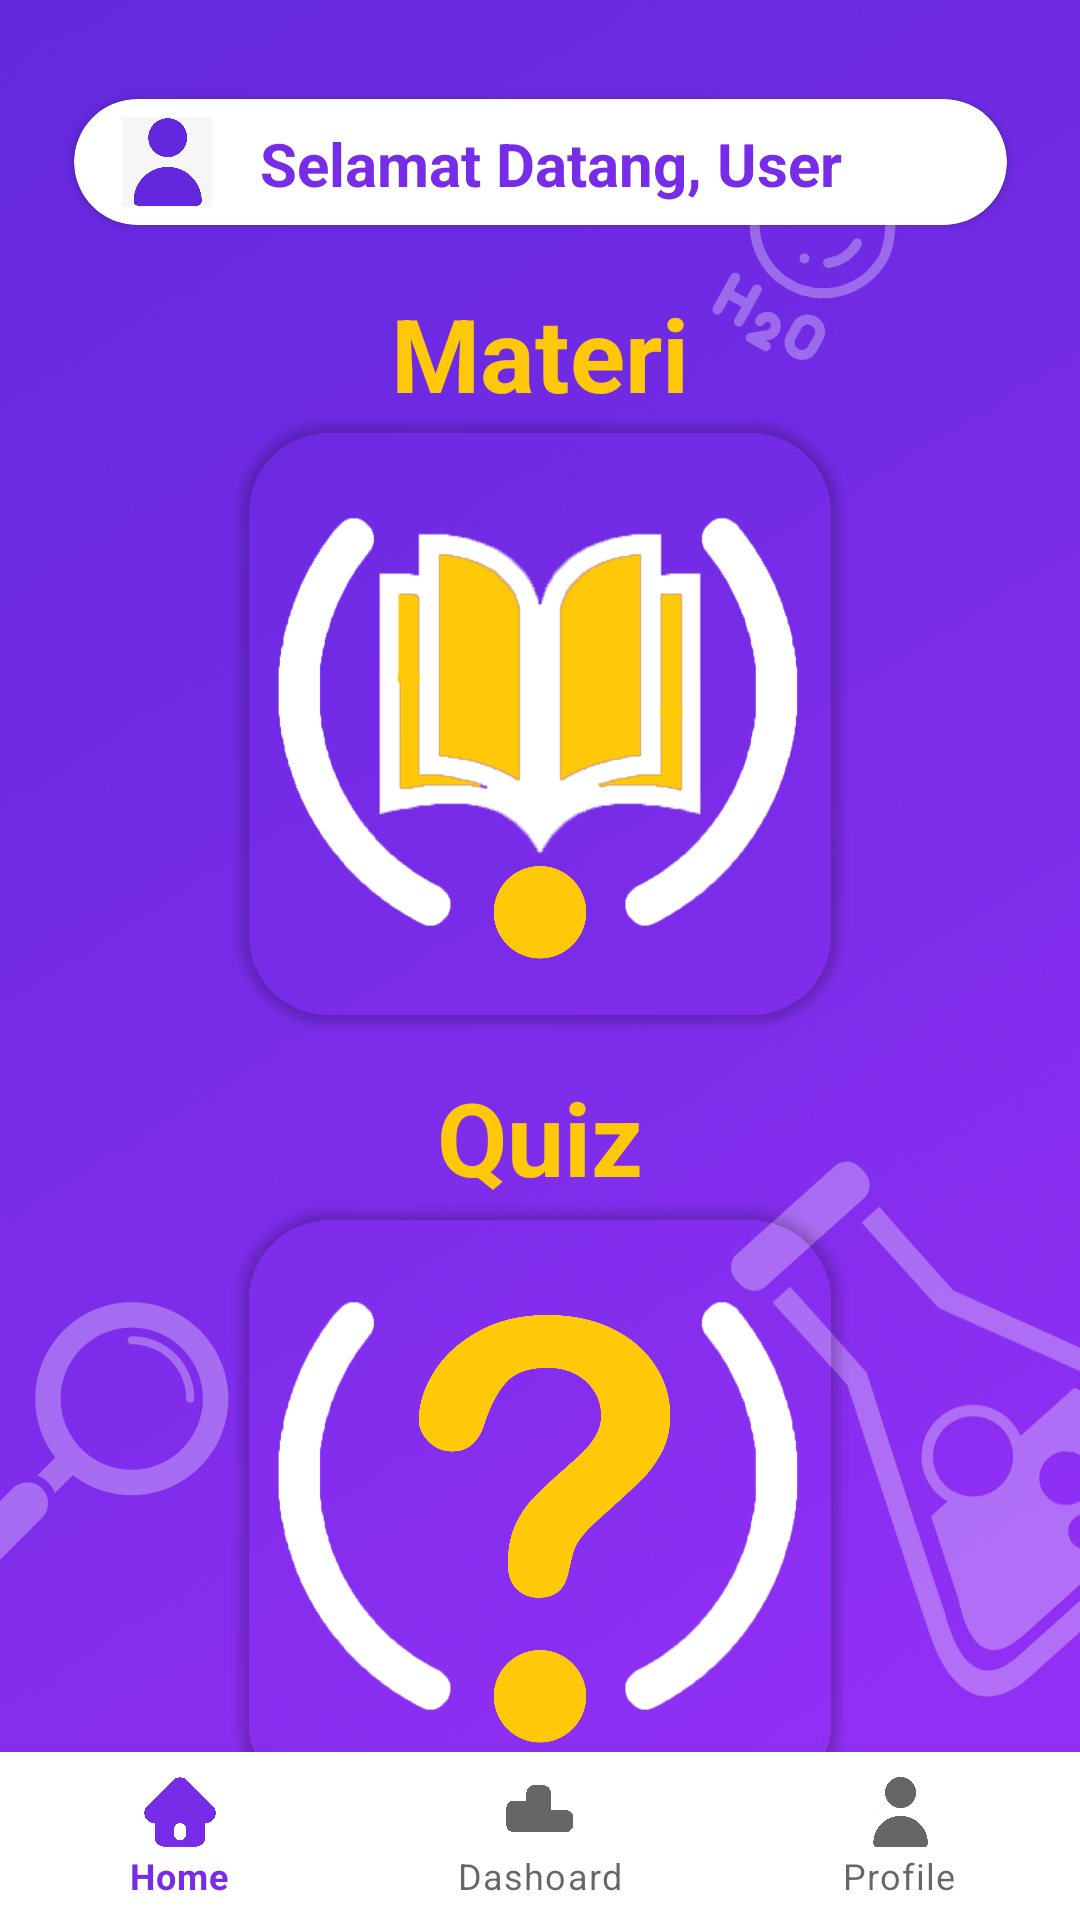

Where icons sit on this 1080px×1920px app screen, as (x1, y1, x2, y2):
person: (134, 118, 202, 206)
